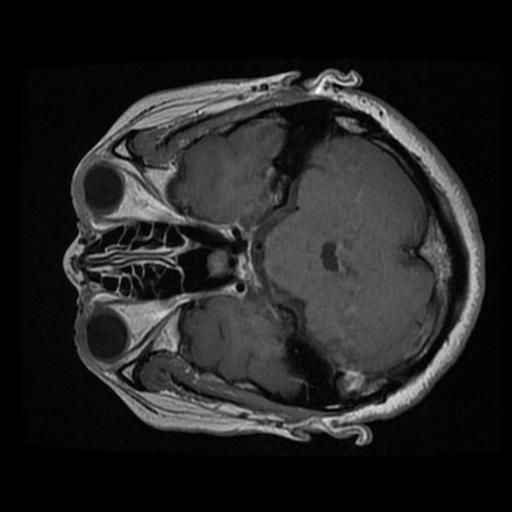pituitary tumour: (206, 249, 229, 277)
